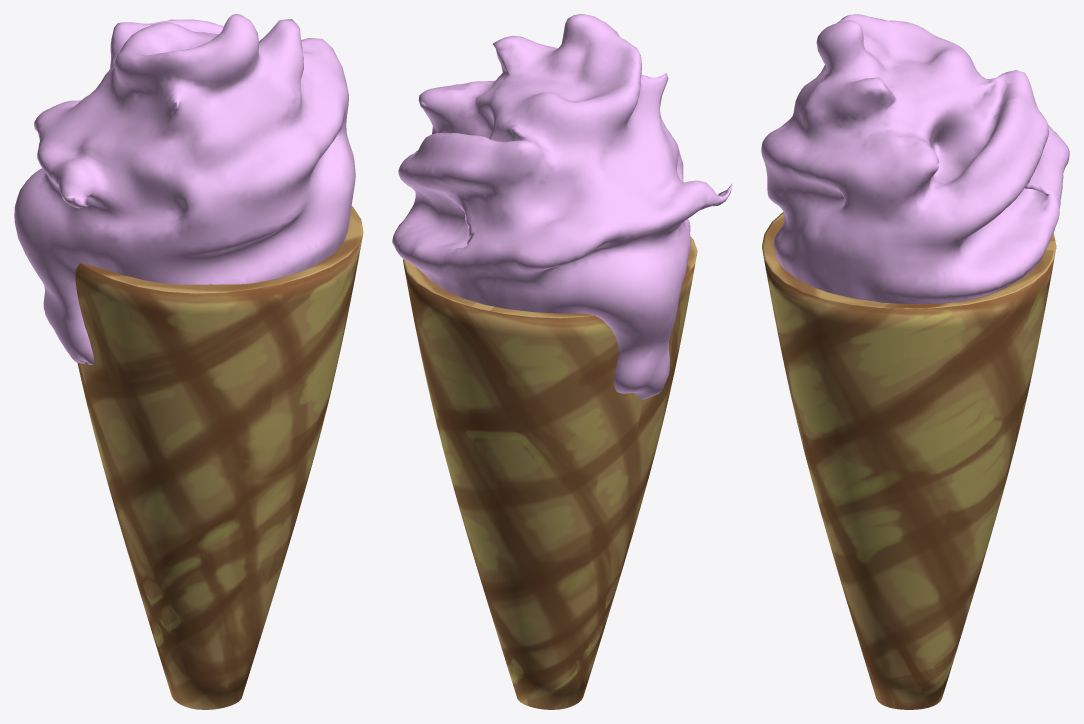
File: icecream.fbx
3 views of the same model, side by side, from view 1: azimuth 30°, elevation 25°; view 2: azimuth 150°, elevation 25°; view 3: azimuth 270°, elevation 25° (orthographic). The views are drawn at different scales.
Parts seen in each view (by area): view 1: Cube, Sphere; view 2: Sphere, Cube; view 3: Cube, Sphere.
Boxes of the visible parts, x1,y1,x2,y2 form: Cube: (75,206,363,709); Sphere: (14,14,355,365); Sphere: (392,14,732,399); Cube: (403,236,697,709); Cube: (762,212,1056,709); Sphere: (761,14,1069,303).
Size of the model in its own units: 5.86 by 13.16 by 5.45.
2 materials, 1 textured.
